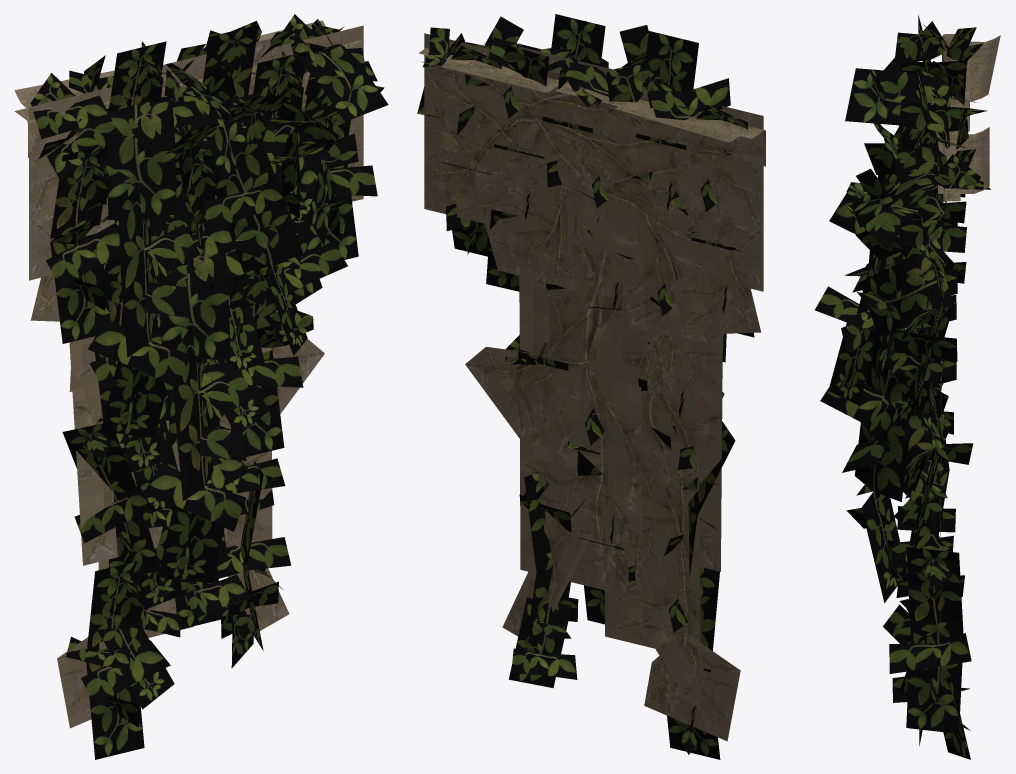
Rendered from vine plant.fbx.
3 views of the same model, side by side, from view 1: azimuth 30°, elevation 25°; view 2: azimuth 150°, elevation 25°; view 3: azimuth 270°, elevation 25° (orthographic). The views are drawn at different scales.
Visible parts, largest first — view 1: p7_foliage_distictis_hanging_ledge_64_long; view 2: p7_foliage_distictis_hanging_ledge_64_long; view 3: p7_foliage_distictis_hanging_ledge_64_long.
Boxes of the visible parts, x1,y1,x2,y2 form: p7_foliage_distictis_hanging_ledge_64_long: [14, 14, 388, 759]; p7_foliage_distictis_hanging_ledge_64_long: [417, 14, 765, 759]; p7_foliage_distictis_hanging_ledge_64_long: [815, 15, 1000, 759].
Bounding box in the file's own units: 162 × 314 × 76.27.
2 materials, 2 textured.
